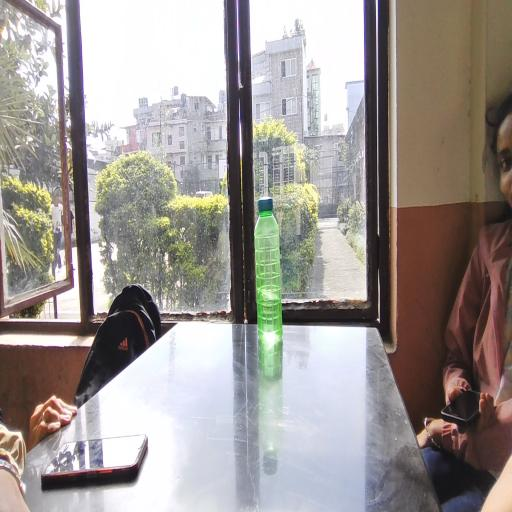Bottle: (255, 206, 292, 364)
